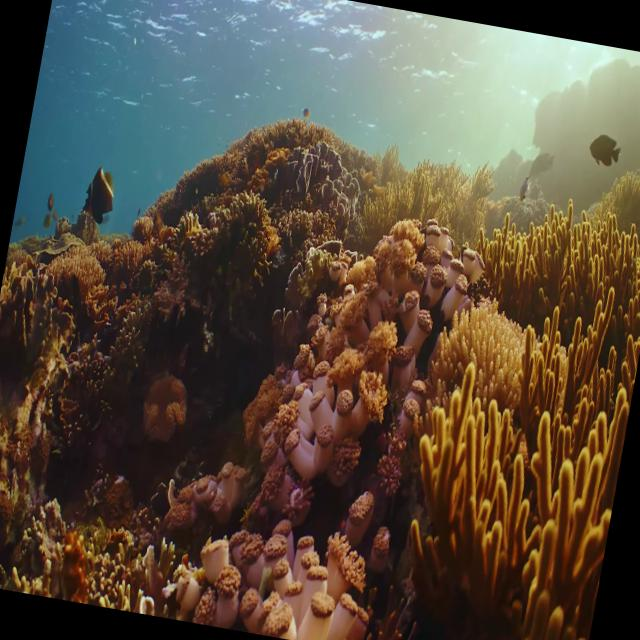fish: (584, 132, 622, 172)
